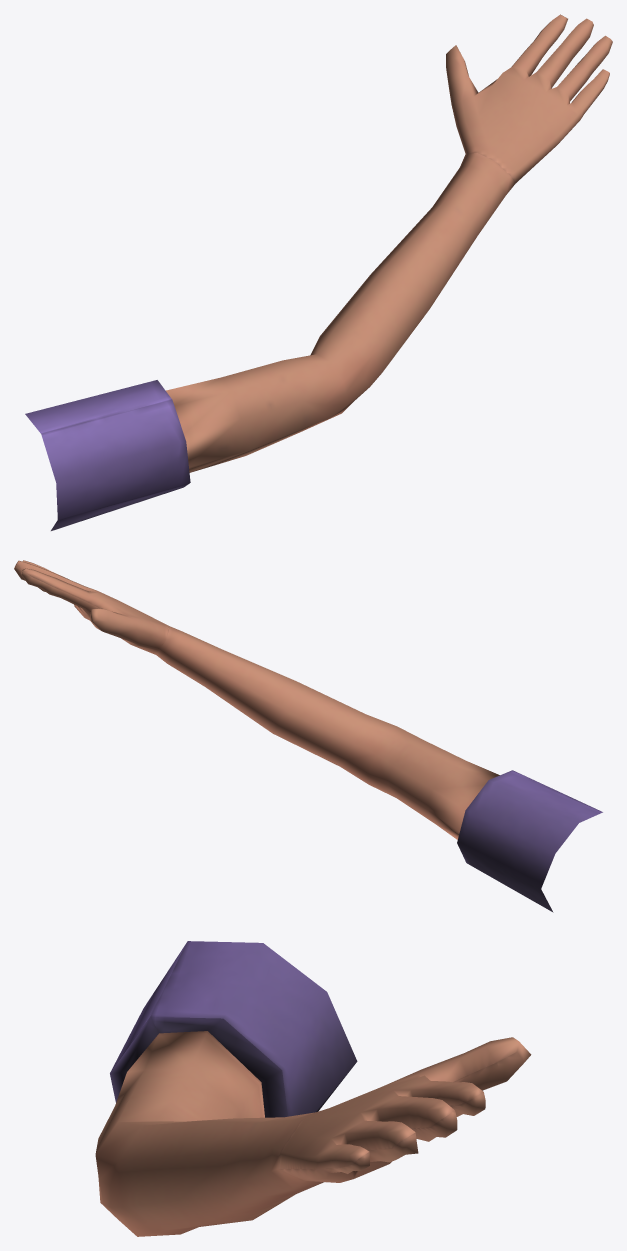
The model's file is man_leaning_waving_arm.glb.
3 renders of one model, top to bottom at view 1: azimuth 30°, elevation 25°; view 2: azimuth 150°, elevation 25°; view 3: azimuth 270°, elevation 25°, orthographic. The views are drawn at different scales.
Visible parts, largest first — view 1: world; view 2: world; view 3: world.
Part boxes in pixels (<box>): world: <box>25,14,612,530</box>; world: <box>14,560,602,912</box>; world: <box>95,941,531,1236</box>.
Size of the model in its own units: 0.5634 by 0.2679 by 0.2008.
1 material, 1 textured.
